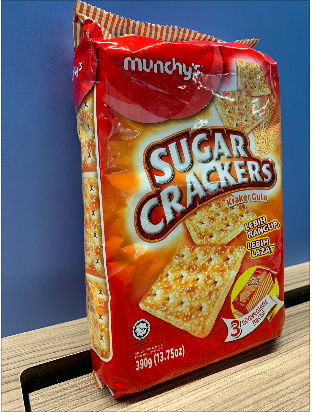Crackers_300-399g: (110, 51, 286, 348)
